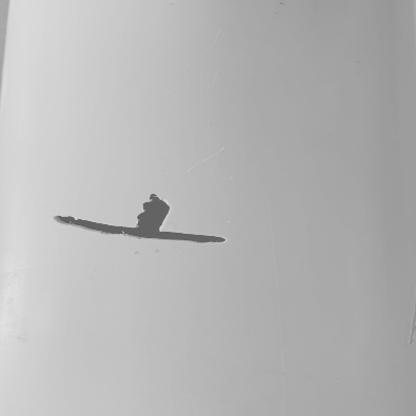fengxi: (52, 213, 228, 246)
kongdong: (135, 192, 172, 231)
